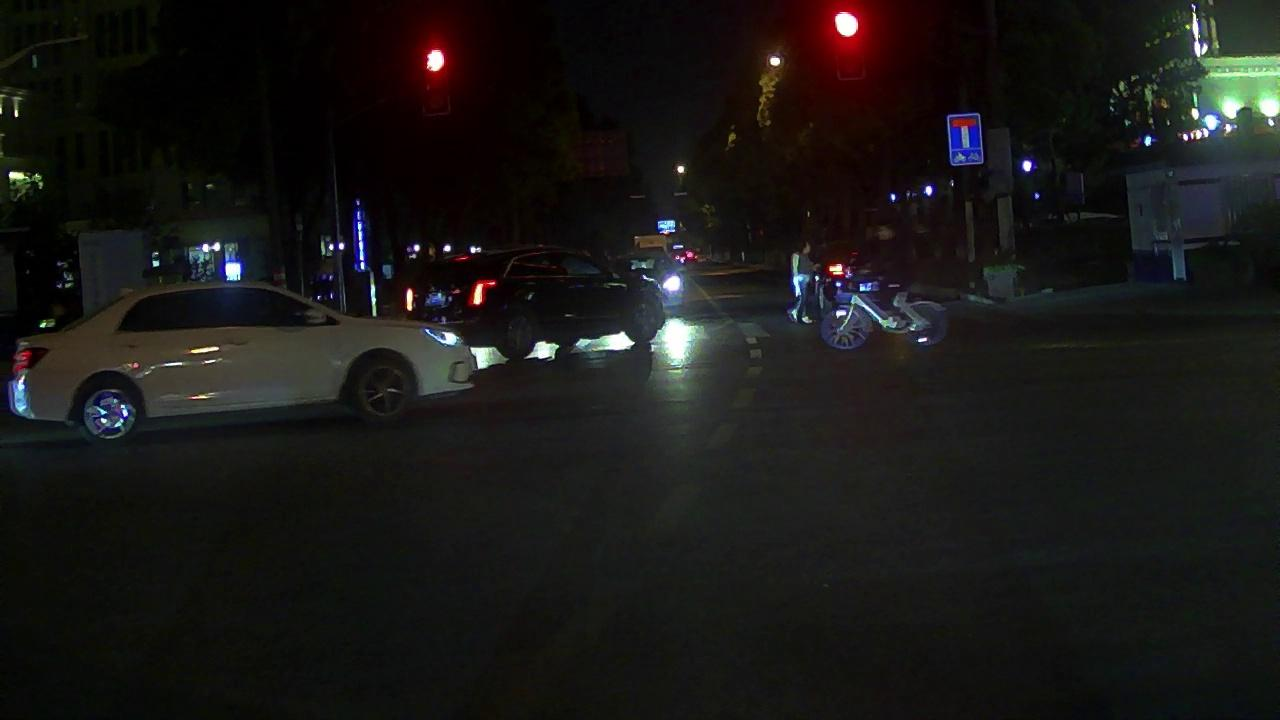traffic_light: (418, 38, 448, 114), (835, 7, 863, 82)
